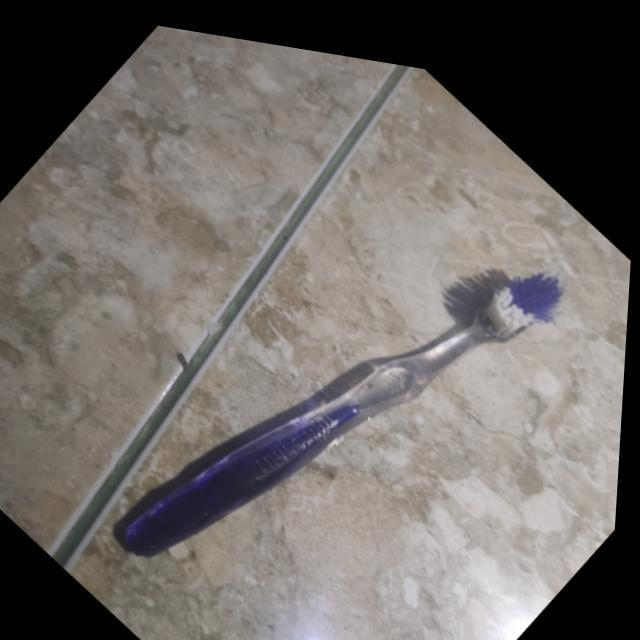toothbrush: (102, 237, 581, 562)
